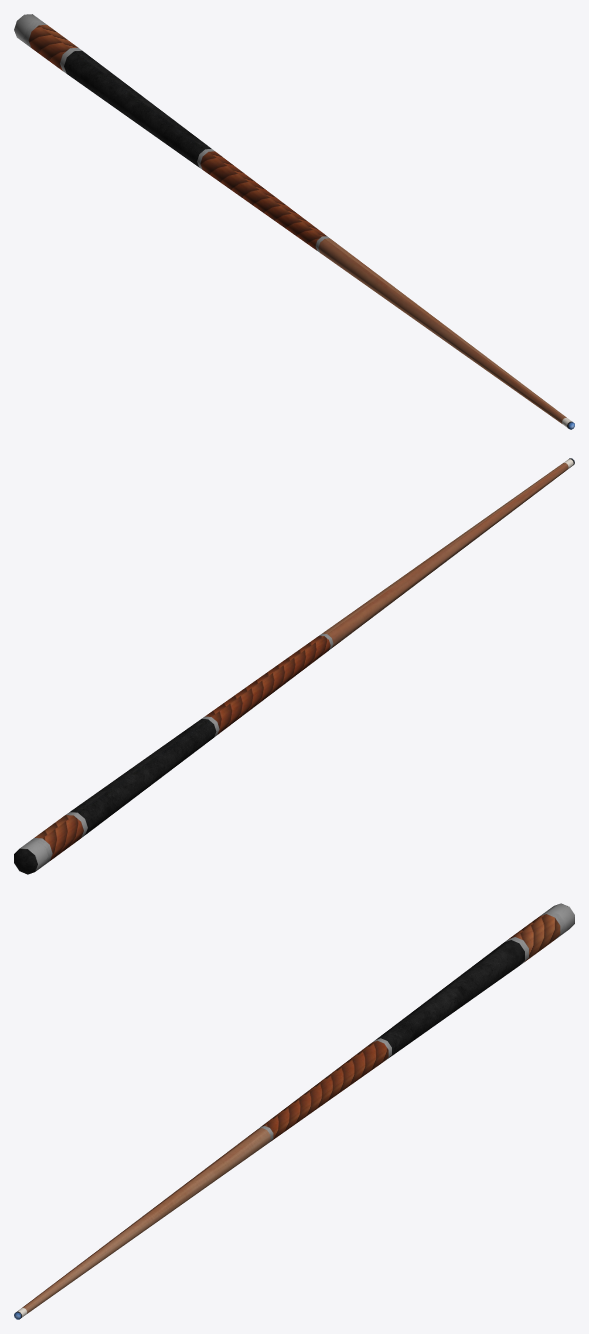
Rendered from cue2.glb.
3 views of the same model, one above another, from view 1: azimuth 30°, elevation 25°; view 2: azimuth 150°, elevation 25°; view 3: azimuth 330°, elevation 25° (orthographic).
Visible parts, largest first — view 1: cue; view 2: cue; view 3: cue.
Boxes of the visible parts, x1=… form: cue: x1=14, y1=14, x2=574, y2=429; cue: x1=14, y1=458, x2=574, y2=874; cue: x1=14, y1=903, x2=574, y2=1319.
Size of the model in its own units: 0.0373 by 0.0379 by 1.48.
1 material, 1 textured.
